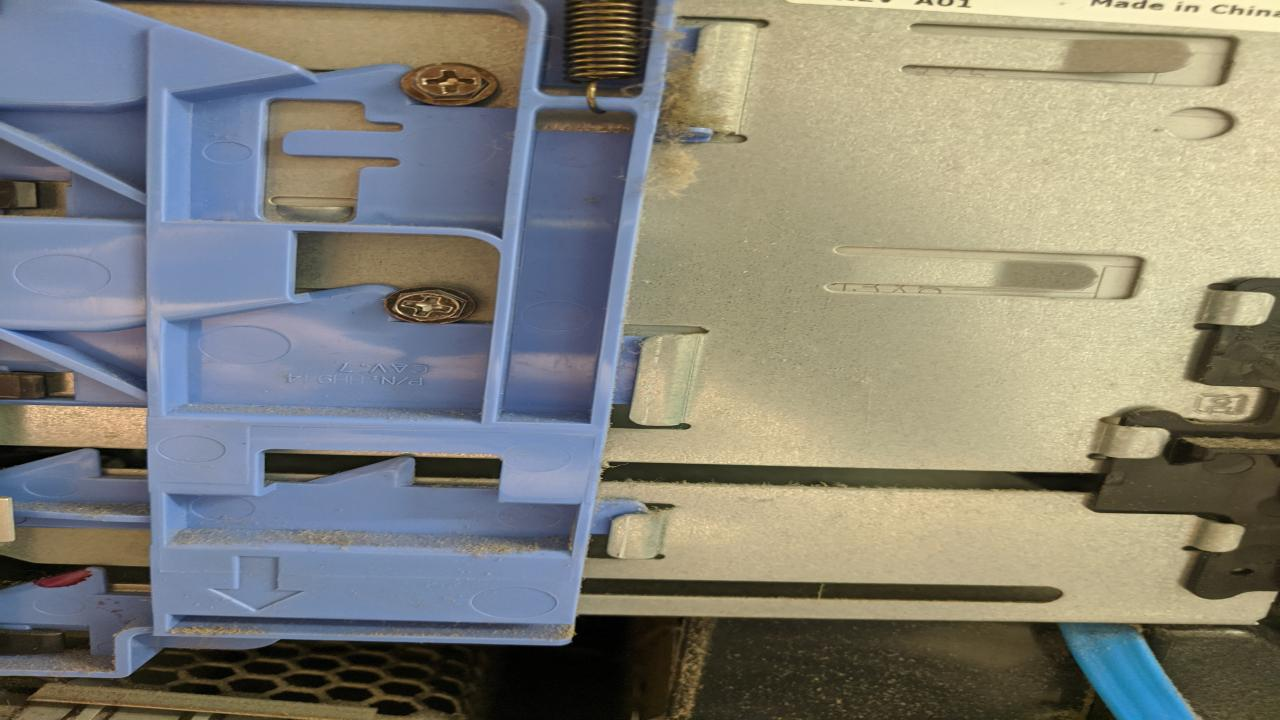CRS: (406, 64, 494, 102), (388, 288, 471, 320)
